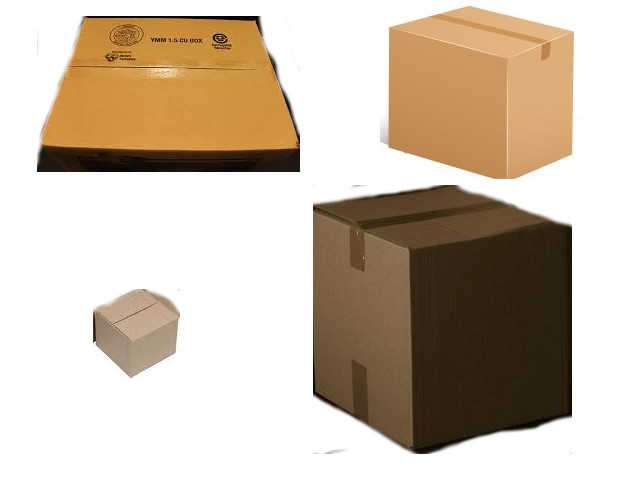cardboard: (311, 184, 573, 449), (47, 18, 296, 170), (391, 6, 573, 178), (97, 290, 178, 376)
